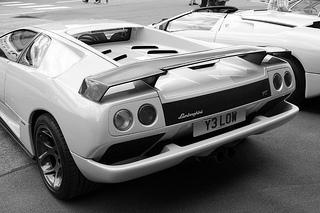car: (1, 16, 302, 205)
